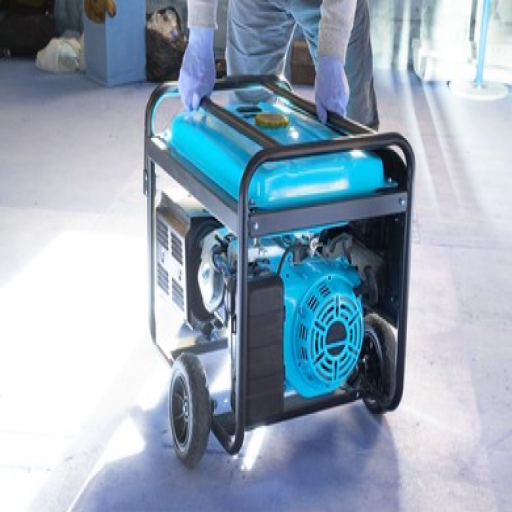portable_generator: (143, 73, 416, 456)
